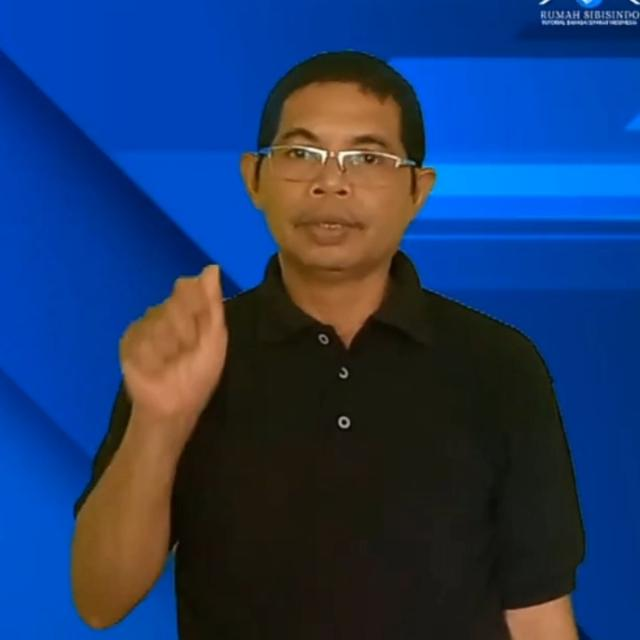A: (113, 259, 239, 419)
